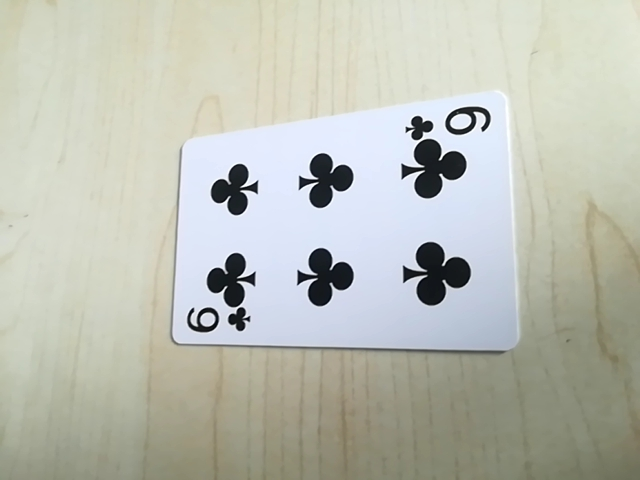mh 6: (402, 103, 496, 142), (181, 304, 252, 339)
